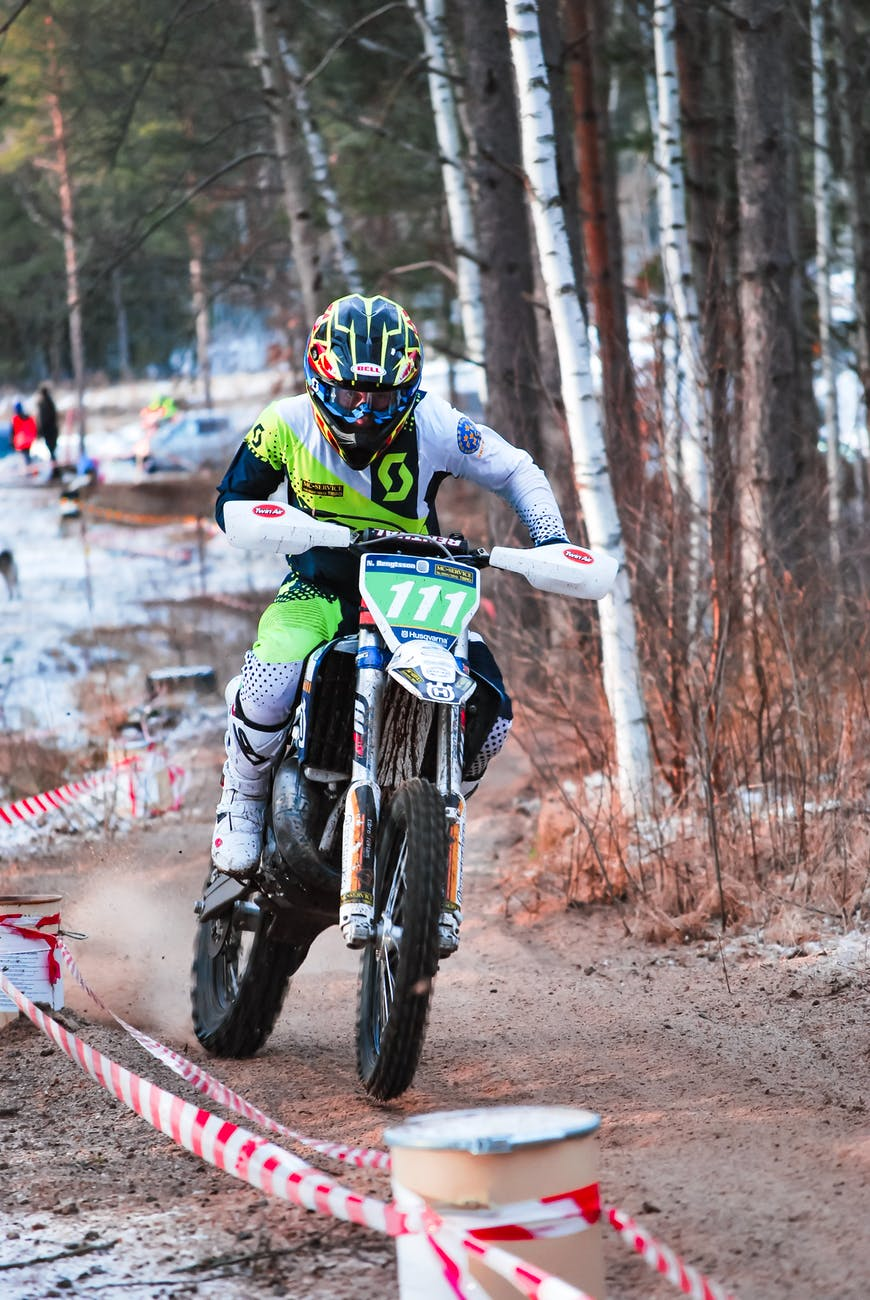helmet: (310, 285, 430, 453)
